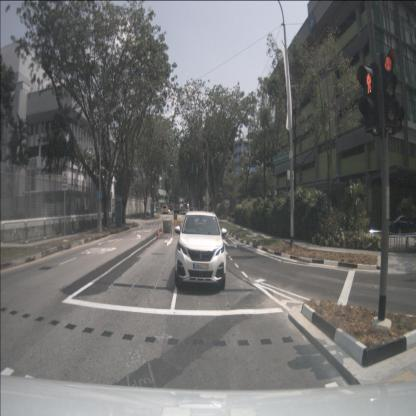cone: (156, 225, 160, 238), (162, 224, 164, 235)
